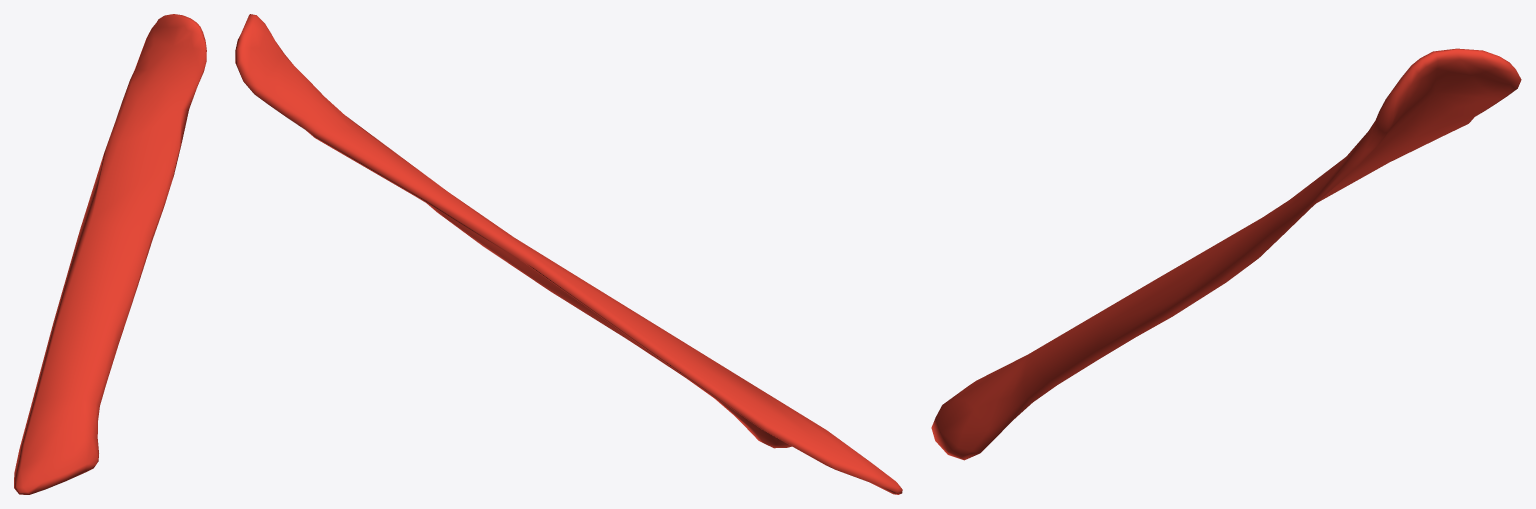
The model's file is Deep_head_of_flexor_pollicis_brevis_on_1st_metacarpal_bone_Gene.glb.
3 views of the same model, side by side, from view 1: azimuth 30°, elevation 25°; view 2: azimuth 150°, elevation 25°; view 3: azimuth 270°, elevation 25° (orthographic). The views are drawn at different scales.
Visible parts, largest first — view 1: Deep_head_of_flexor_pollicis_brevis_on_1st_metacarpal_bone_G; view 2: Deep_head_of_flexor_pollicis_brevis_on_1st_metacarpal_bone_G; view 3: Deep_head_of_flexor_pollicis_brevis_on_1st_metacarpal_bone_G.
Boxes of the visible parts, x1,y1,x2,y2 form: Deep_head_of_flexor_pollicis_brevis_on_1st_metacarpal_bone_G: [14, 14, 206, 494]; Deep_head_of_flexor_pollicis_brevis_on_1st_metacarpal_bone_G: [235, 14, 902, 494]; Deep_head_of_flexor_pollicis_brevis_on_1st_metacarpal_bone_G: [931, 48, 1521, 460].
Size of the model in its own units: 0.0197 by 0.0202 by 0.0169.
